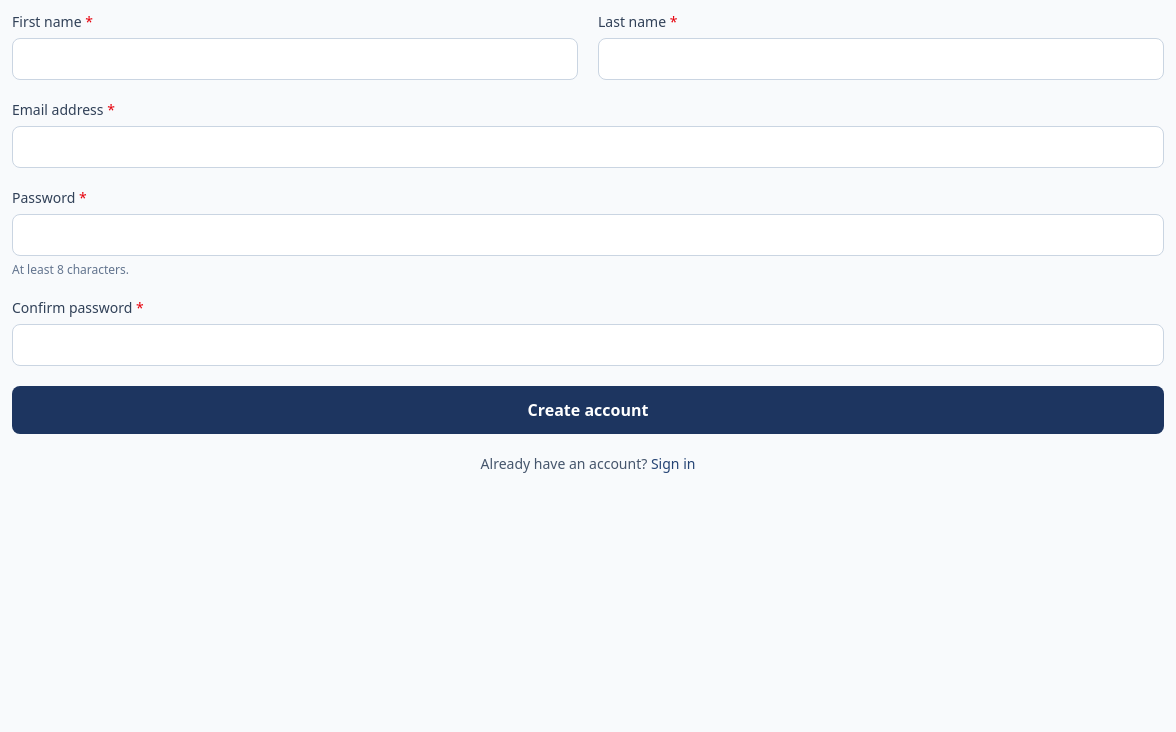
Test: SignupForm › blocks submission and shows an error for every empty field
The image size is (1176, 732).
Click the button "Create account". click: point(588, 410)
box: [12,386,1164,434]
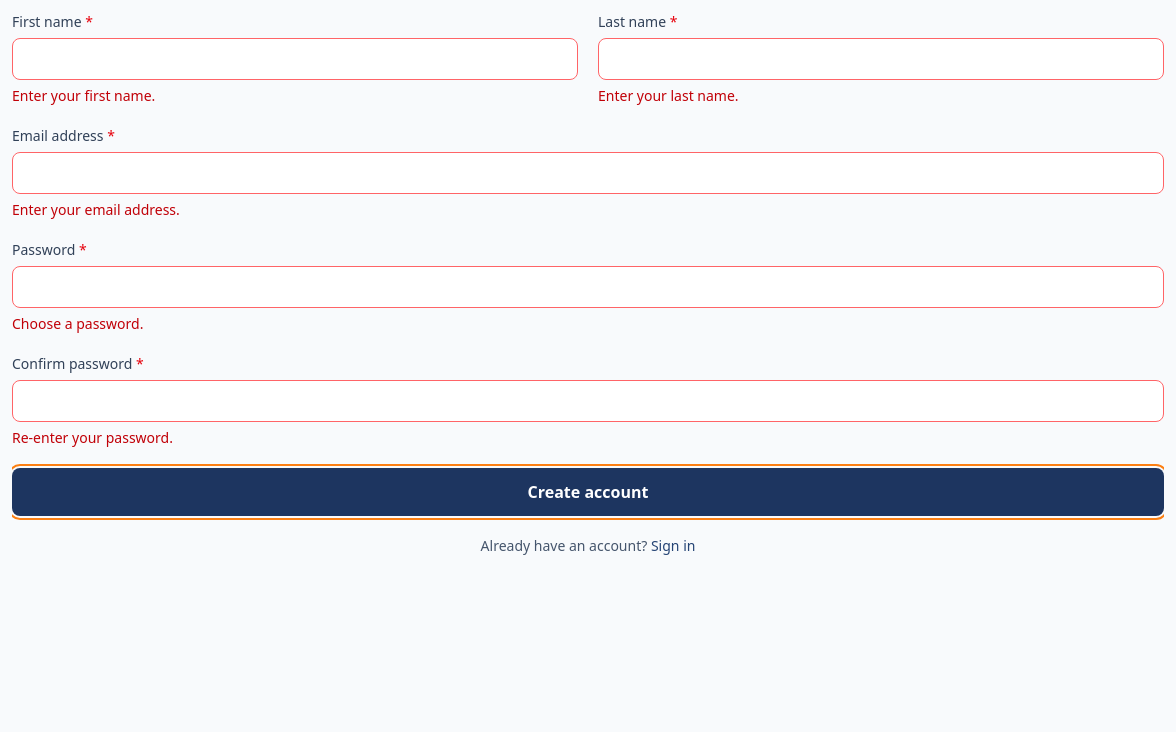
Result: the text "Enter your first name." is shown at [12,86,155,105]
Result: the text "Enter your last name." is shown at [598,86,739,105]
Result: the text "Enter your email address." is shown at [12,200,180,219]
